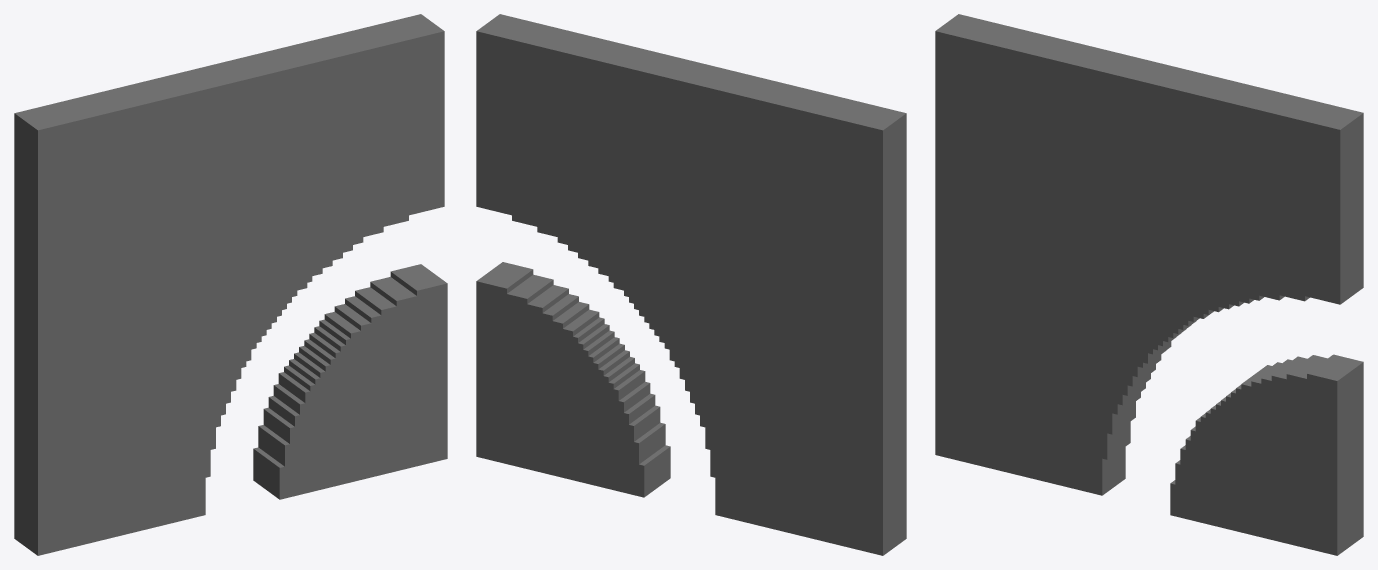
File: cornerCollider.obj
The picture shows the model from 3 angles, left to right: view 1: azimuth 30°, elevation 25°; view 2: azimuth 150°, elevation 25°; view 3: azimuth 330°, elevation 25°; orthographic projection.
Visible parts, largest first — view 1: cornerCollider; view 2: cornerCollider; view 3: cornerCollider.
Boxes of the visible parts, x1,y1,x2,y2 form: cornerCollider: (14, 14, 447, 555); cornerCollider: (476, 14, 906, 555); cornerCollider: (935, 14, 1363, 555).
Size of the model in its own units: 80 by 80 by 9.
Materials: 1 (1 with a texture image).
